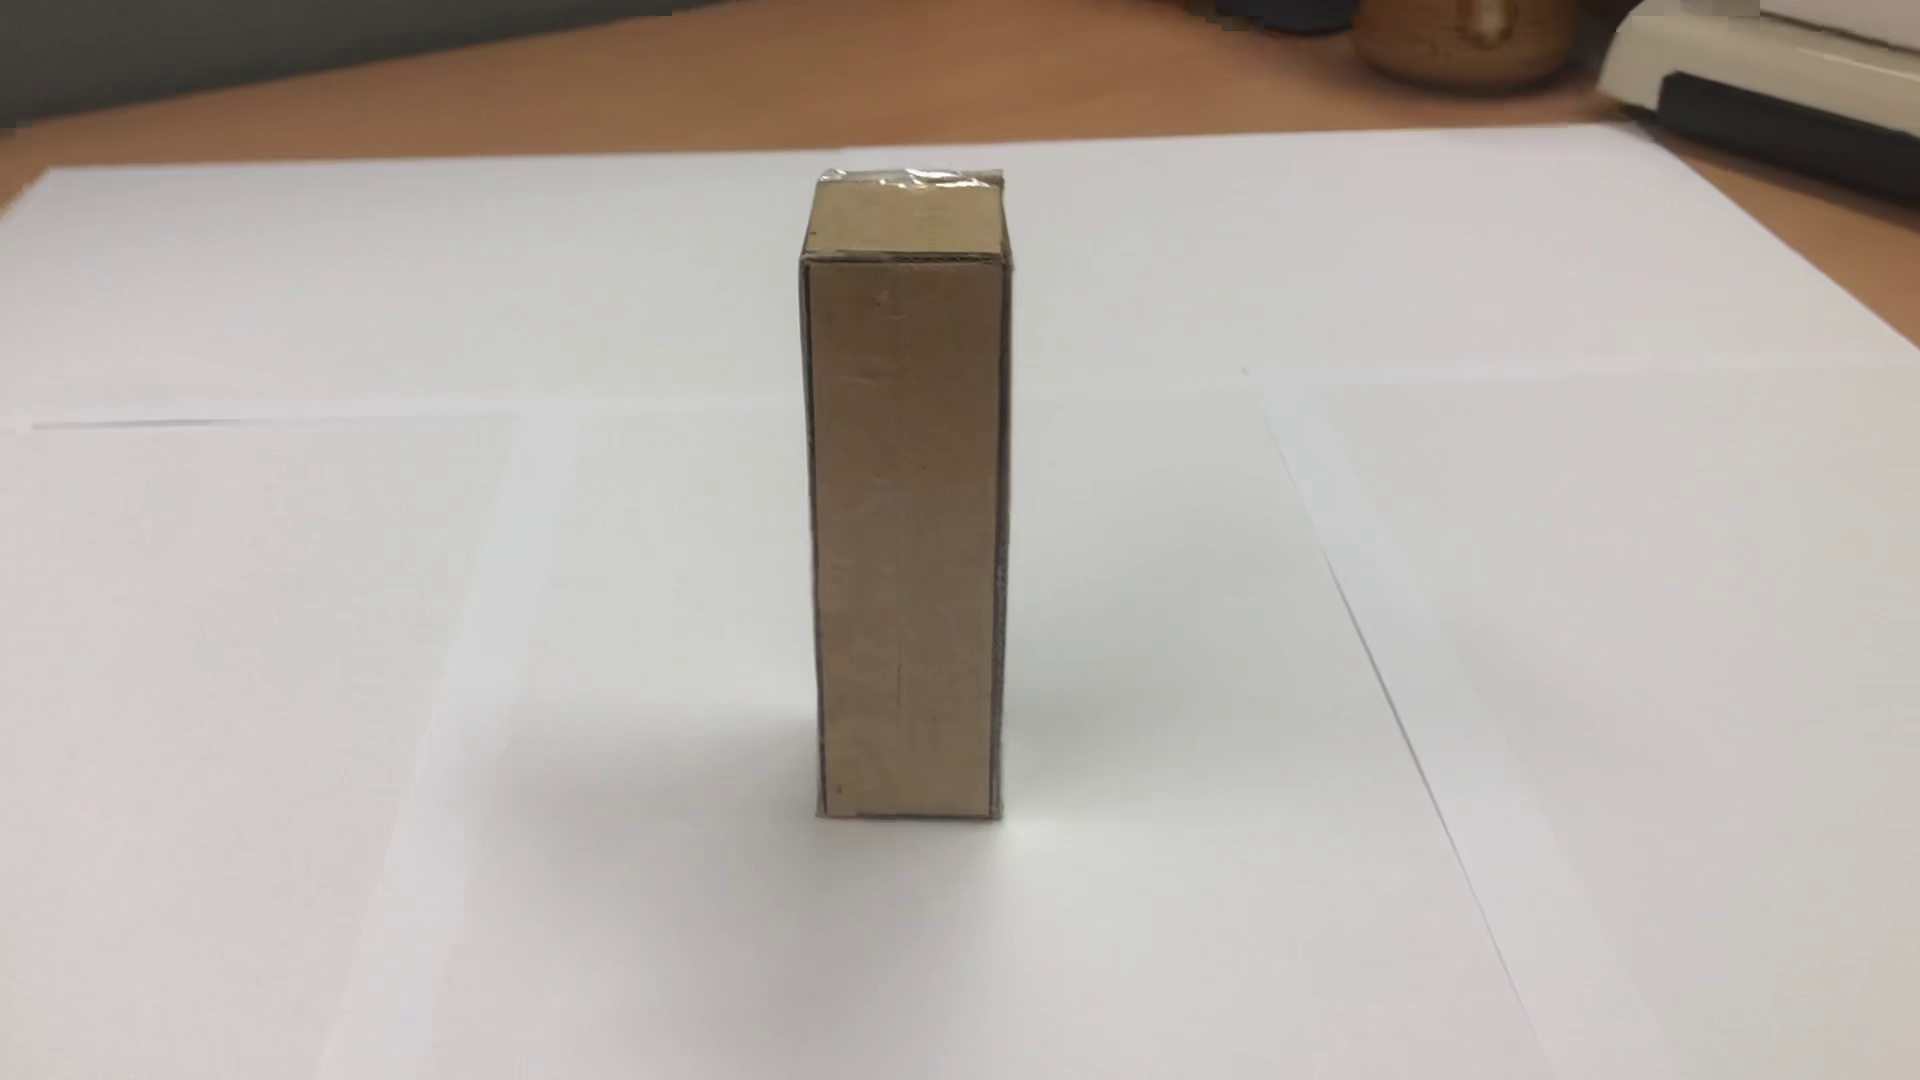box: (760, 135, 1051, 852)
